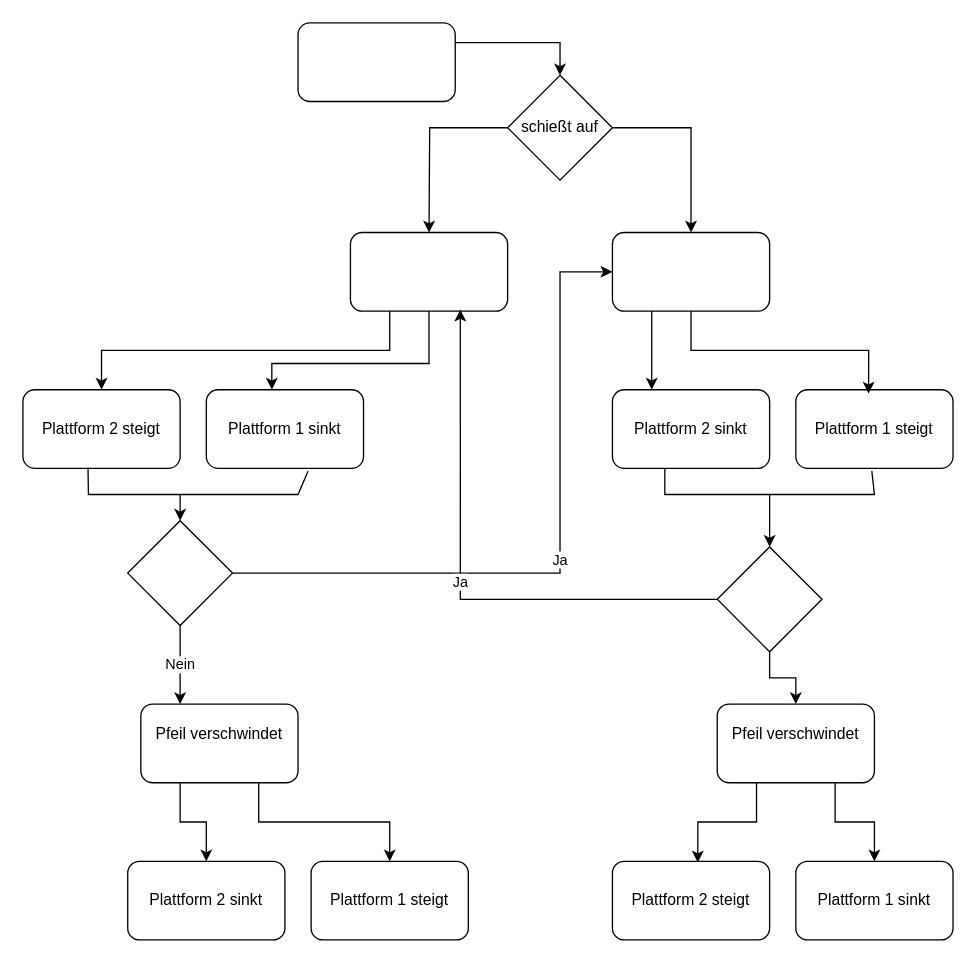
The diagram is 976 pixels wide and 963 high, and some of its shapes have lost their labels. The shapes that lost their labels are listed below. From the top down, each one's centre as x and y in pixels, then its label:
the point at 376,62: Spieler kommt an Seilzug
the point at 428,271: Platform 1
the point at 690,271: Platform 2
the point at 179,572: Schießt auf Plattform 2
the point at 769,599: Schießt auf Plattform 1
